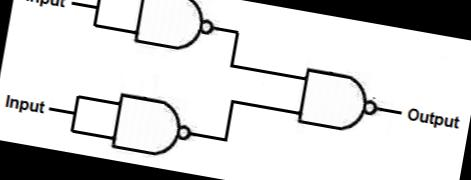nand: (104, 87, 200, 164), (291, 63, 385, 140), (125, 0, 222, 60)
